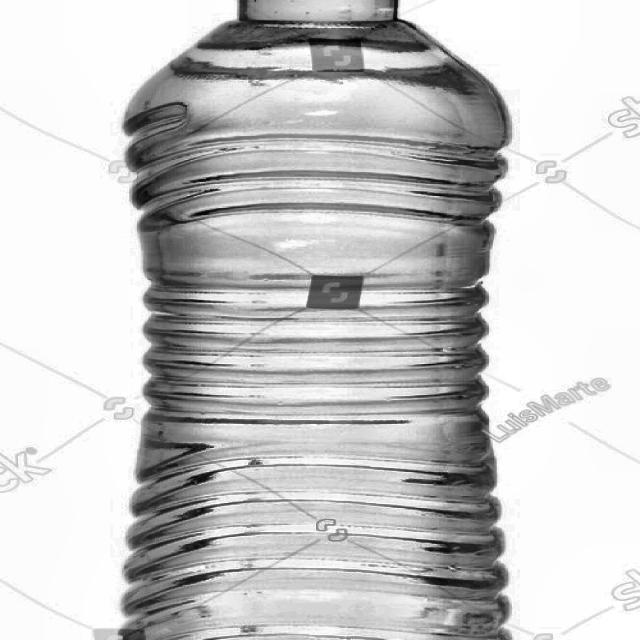bottle: (119, 0, 516, 640)
